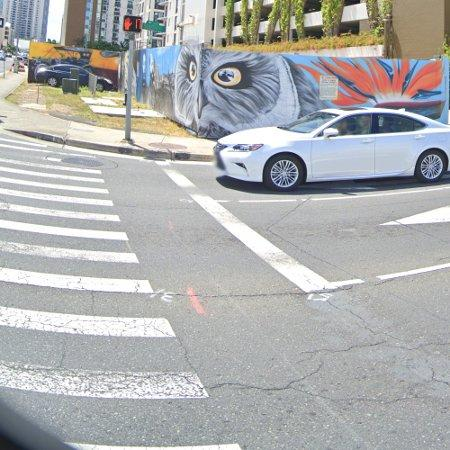crosswalks: (0, 136, 247, 450)
